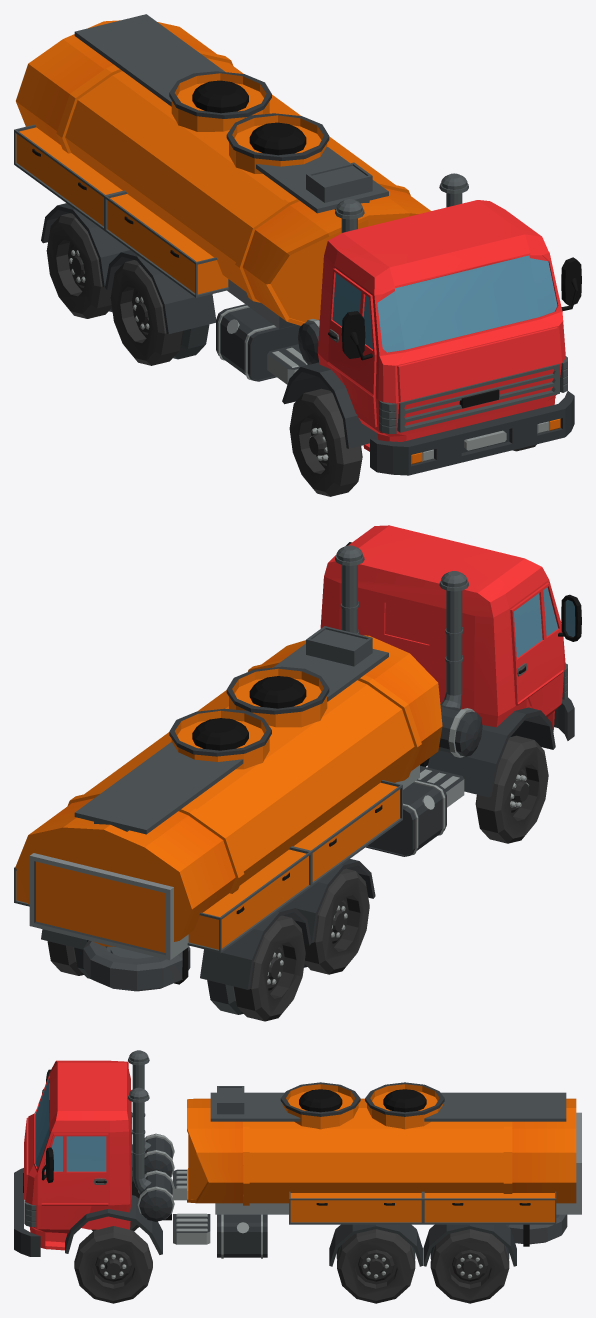
File: kamaz_fuel_truck_red.fbx
3 views of the same model, one above another, from view 1: azimuth 30°, elevation 25°; view 2: azimuth 150°, elevation 25°; view 3: azimuth 270°, elevation 25° (orthographic). The views are drawn at different scales.
Parts seen in each view (by area): view 1: Cube.047; view 2: Cube.047; view 3: Cube.047.
Boxes of the visible parts, x1,y1,x2,y2 form: Cube.047: (14, 14, 581, 496); Cube.047: (14, 525, 581, 1021); Cube.047: (14, 1050, 581, 1303).
Bounding box in the file's own units: 281 × 301 × 790.
Materials: 1 (1 with a texture image).
